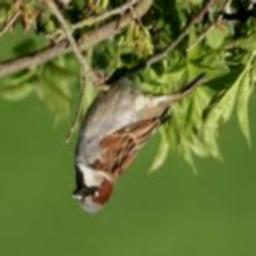Sparrow: (72, 70, 209, 213)
